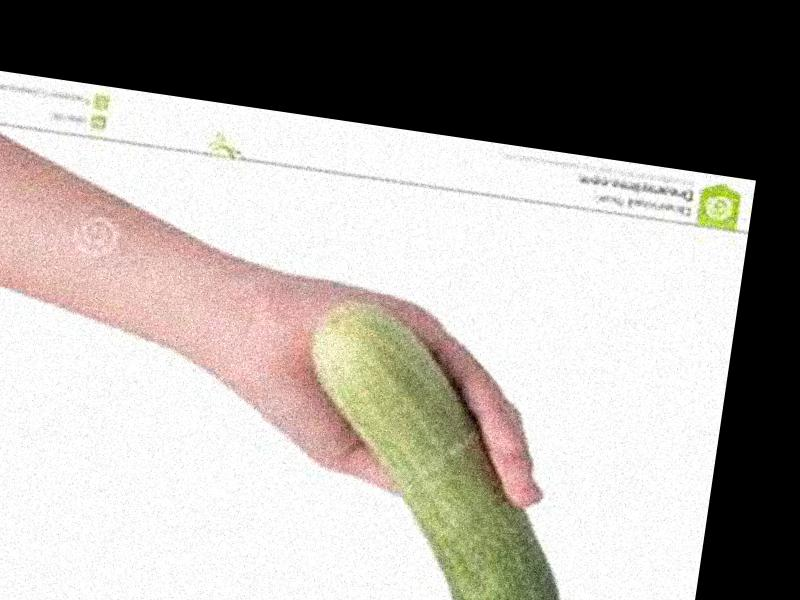Cucumber: (274, 299, 594, 600)
